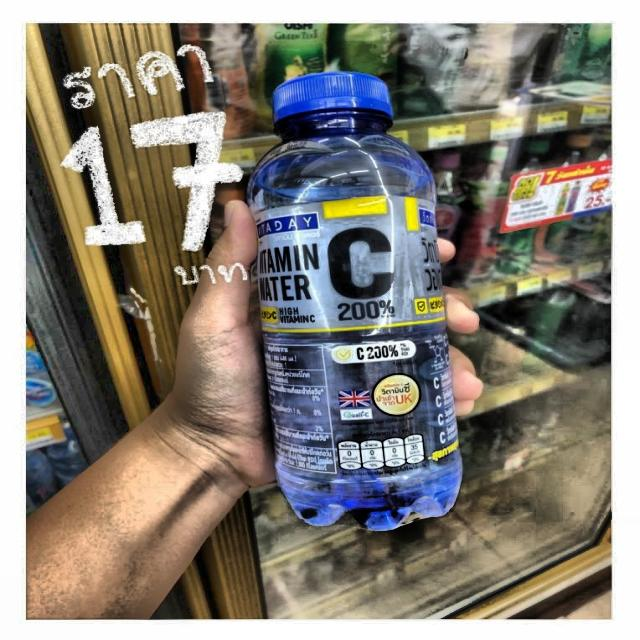Bottles: (239, 63, 480, 535)
